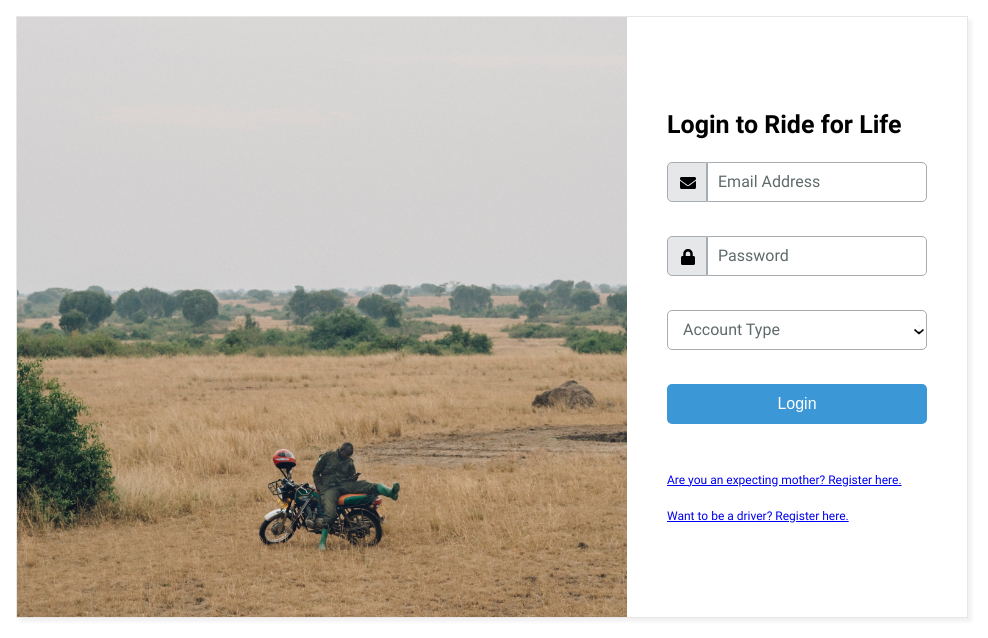
Scenario: Tests for SignIn page › error message after clicking and leaving email field
Expected: the text "Email address is required" is not shown
// Now click on email input and then click outside email input
What coordinates should you click on to do the following:
click the field with test id "email"
I would click on:
 (818, 182)
Its box is [718, 174, 918, 192].
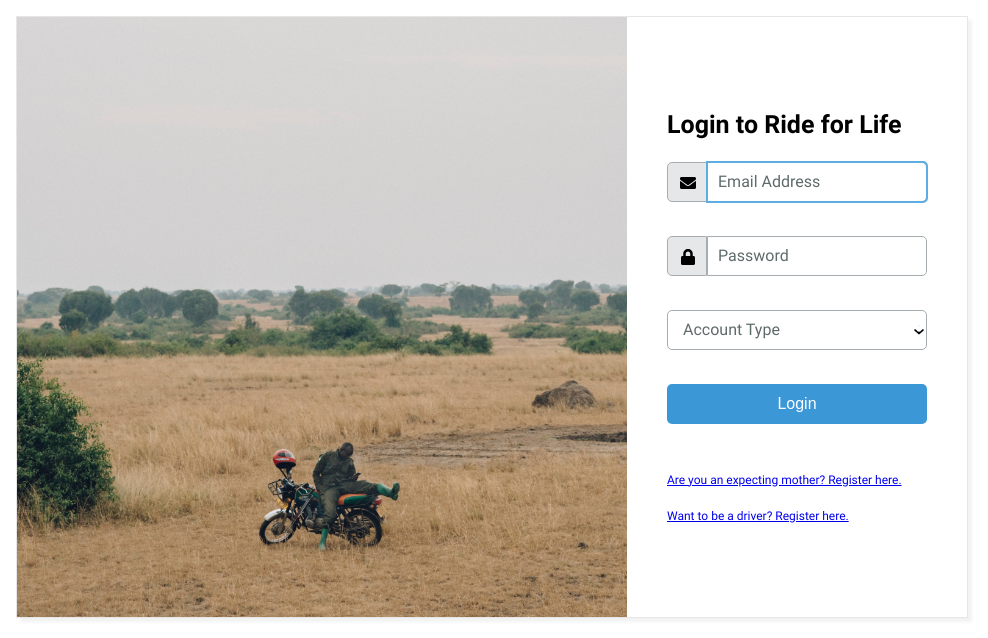
What coordinates should you click on to do the following:
click the heading "Login to Ride for Life"
I would click on:
 (797, 124)
Its box is [667, 112, 927, 136].
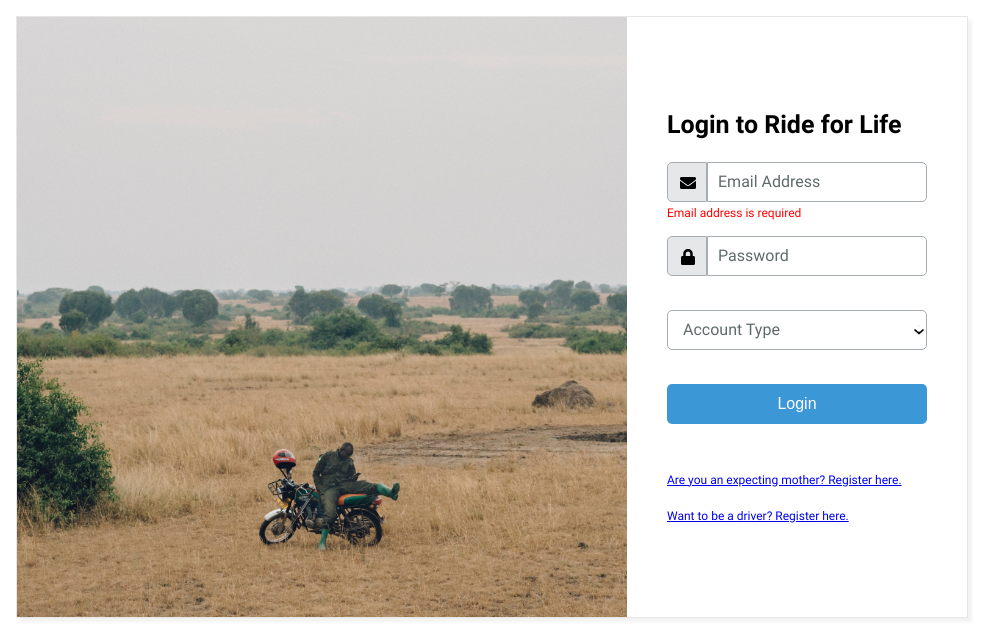
Result: the text "Email address is required" is shown at [667, 206, 801, 220]
